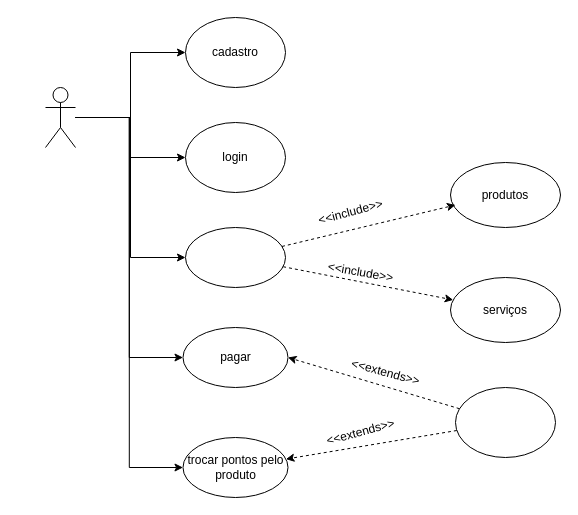
This 578x515 diagram has some shape labels left out. Each missing label, with the centre of its shape:
"atualização no score de pontos" goes at (x=505, y=422).
"Usuario Comum" goes at (x=60, y=117).
"ver lista de itens para troca" goes at (x=235, y=257).
